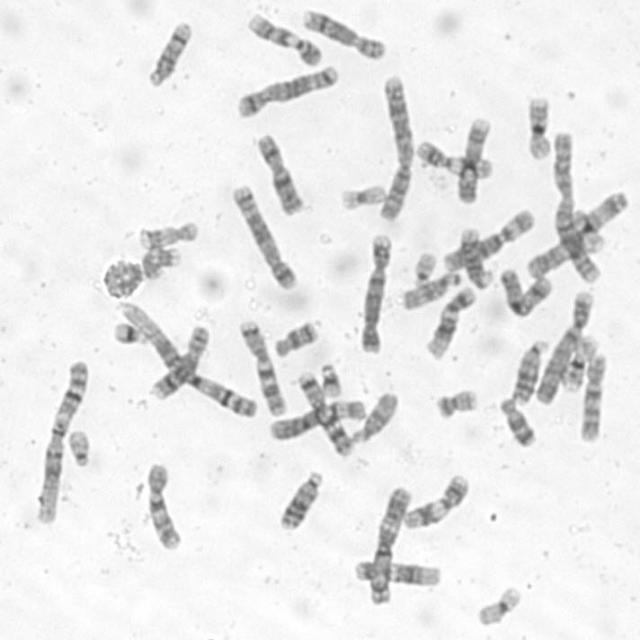A1: (114, 296, 260, 420), (30, 356, 90, 527)
A2: (549, 127, 603, 284), (372, 69, 417, 221)
A3: (521, 185, 631, 280), (366, 483, 412, 608)
B4: (533, 286, 596, 406), (356, 231, 393, 354)
B5: (228, 179, 300, 291), (232, 59, 341, 119)
C10: (143, 457, 186, 553), (576, 347, 610, 445)
C11: (399, 468, 471, 532), (414, 137, 494, 180)
C12: (422, 284, 477, 362), (349, 555, 442, 588)
C6: (438, 204, 536, 272), (265, 396, 368, 442)
C7: (290, 367, 356, 459), (236, 316, 288, 418)
C8: (148, 321, 212, 402), (300, 6, 388, 61)
C9: (244, 8, 324, 67), (454, 113, 493, 206)
D13: (508, 333, 553, 407), (276, 466, 326, 532)
D14: (144, 15, 194, 89), (456, 224, 494, 290)
D15: (348, 386, 401, 446), (397, 267, 462, 311)
E16: (558, 332, 600, 393), (522, 92, 556, 161)
E17: (135, 218, 199, 250), (136, 243, 180, 281)
E18: (494, 393, 538, 450), (270, 315, 321, 359)
F19: (472, 582, 523, 628), (337, 179, 387, 211)
F20: (431, 384, 480, 421)
G21: (109, 316, 151, 347), (316, 358, 345, 399)
G22: (63, 422, 93, 468), (409, 248, 438, 289)
X: (252, 128, 306, 216), (494, 262, 553, 320)
